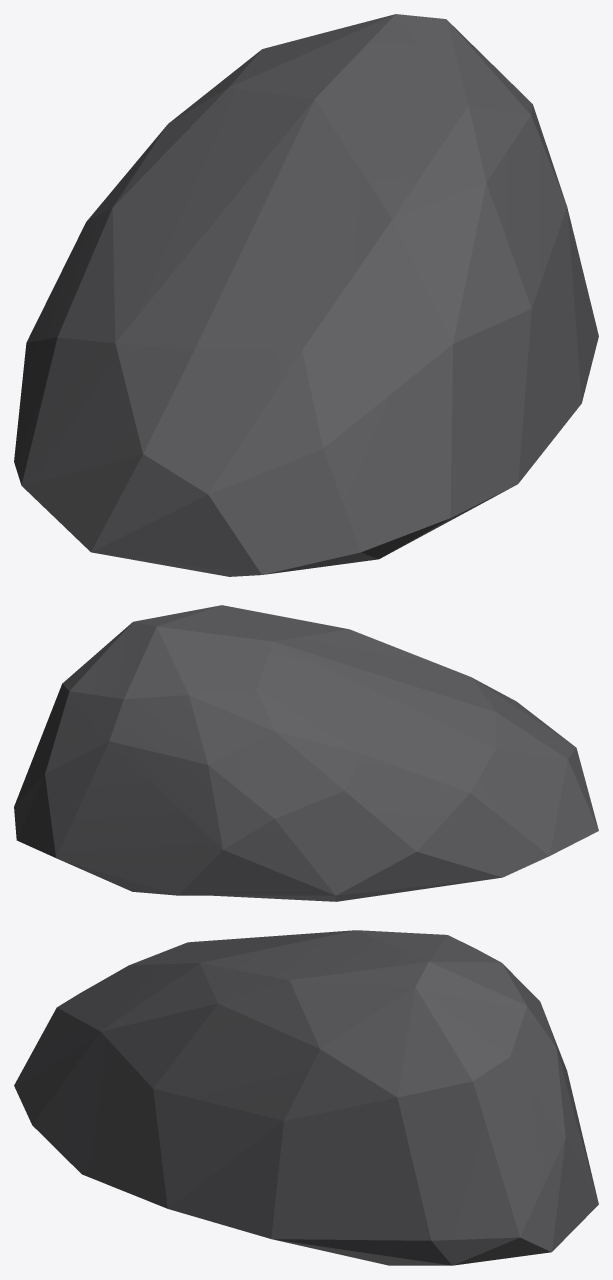
The model's file is Piedra_04.glb.
3 renders of one model, top to bottom at view 1: azimuth 30°, elevation 25°; view 2: azimuth 150°, elevation 25°; view 3: azimuth 270°, elevation 25°, orthographic. The views are drawn at different scales.
Visible parts, largest first — view 1: SM_Env_Rock_03_1; view 2: SM_Env_Rock_03_1; view 3: SM_Env_Rock_03_1.
Part boxes in pixels (<box>): SM_Env_Rock_03_1: <box>14,14,598,576</box>; SM_Env_Rock_03_1: <box>14,605,598,901</box>; SM_Env_Rock_03_1: <box>14,930,598,1265</box>.
Bounding box in the file's own units: 1.39 × 0.7059 × 1.33.
Materials: 1 (1 with a texture image).
